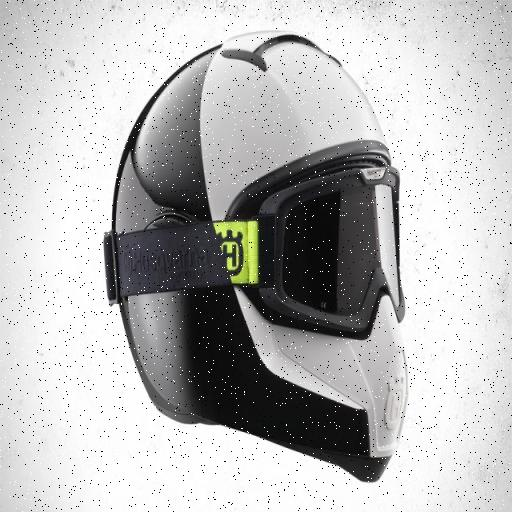Helmet: (101, 23, 423, 478)
